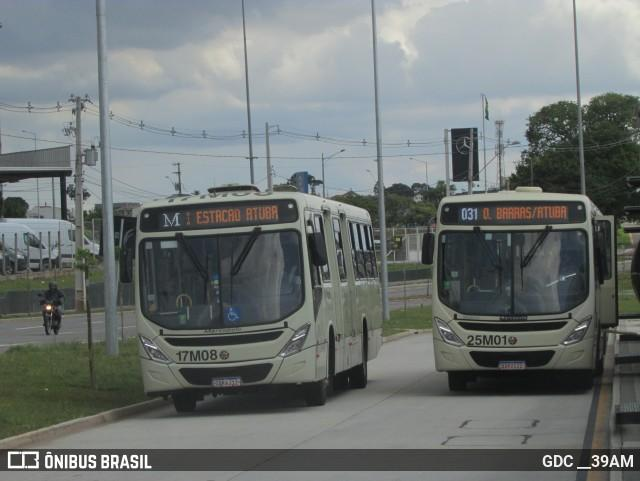BARRAS ATUBA: (494, 203, 572, 222)
ESTACAO ATUBA: (191, 202, 282, 229)
